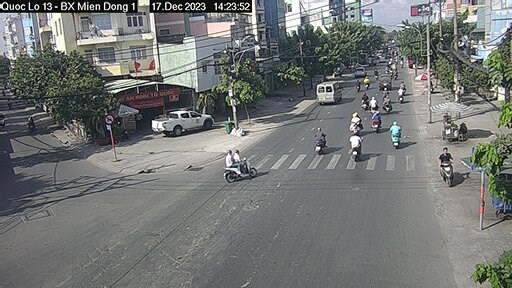car: (150, 108, 214, 137), (313, 78, 344, 107)
motorbike: (218, 147, 260, 187), (439, 151, 458, 187), (348, 130, 366, 163), (387, 119, 404, 152), (310, 122, 326, 151), (368, 113, 381, 134)
